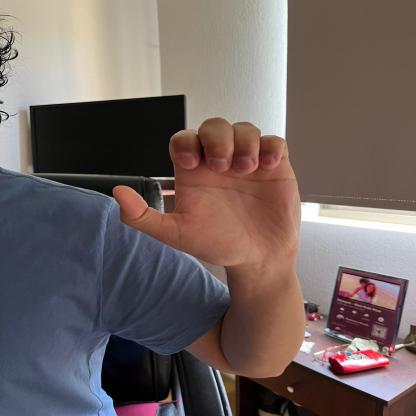E: (106, 115, 309, 266)
